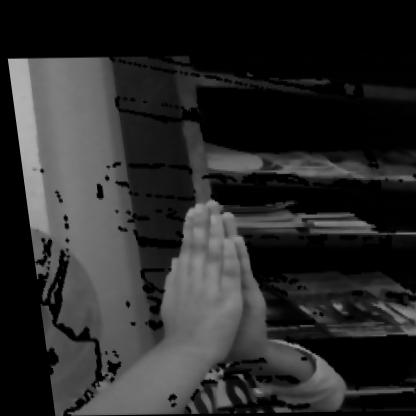namaste: (63, 185, 325, 414)
